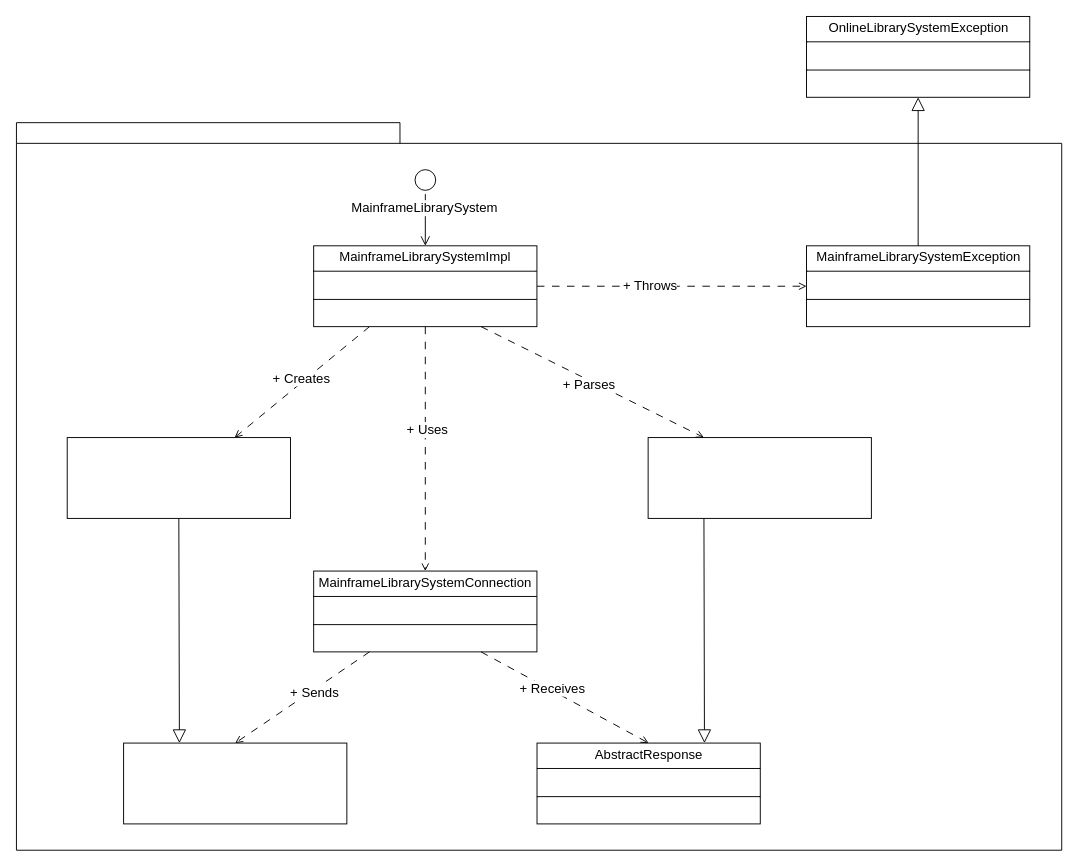
Image size: 1078x867. Some labels were removed from this diagram. The shapes that lost their labels are listed below. From the top down, each one's centre as x and y in pixels, then its label:
point (178, 477): GetRequestBorrowBook
point (759, 477): GetBorrowBookResponse
point (235, 783): AbstractRequest
